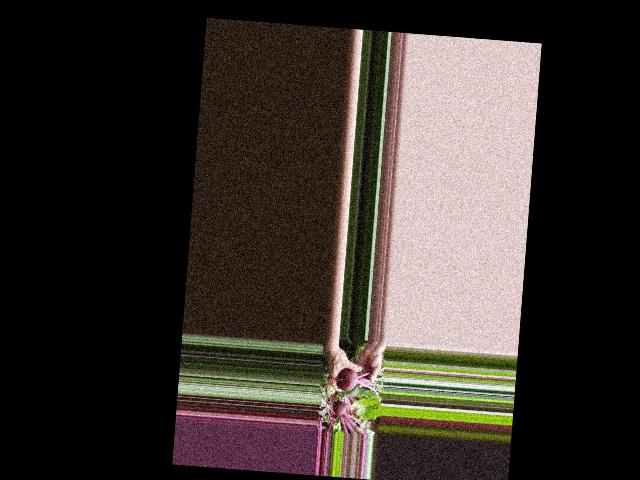beet: (334, 366, 383, 406)
